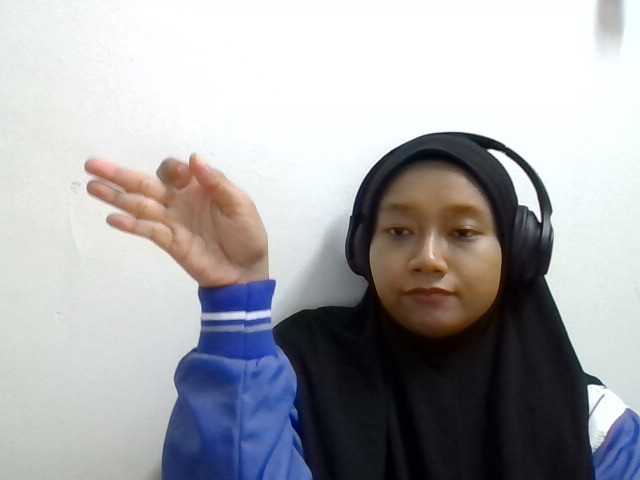Angsa: (82, 152, 270, 284)
